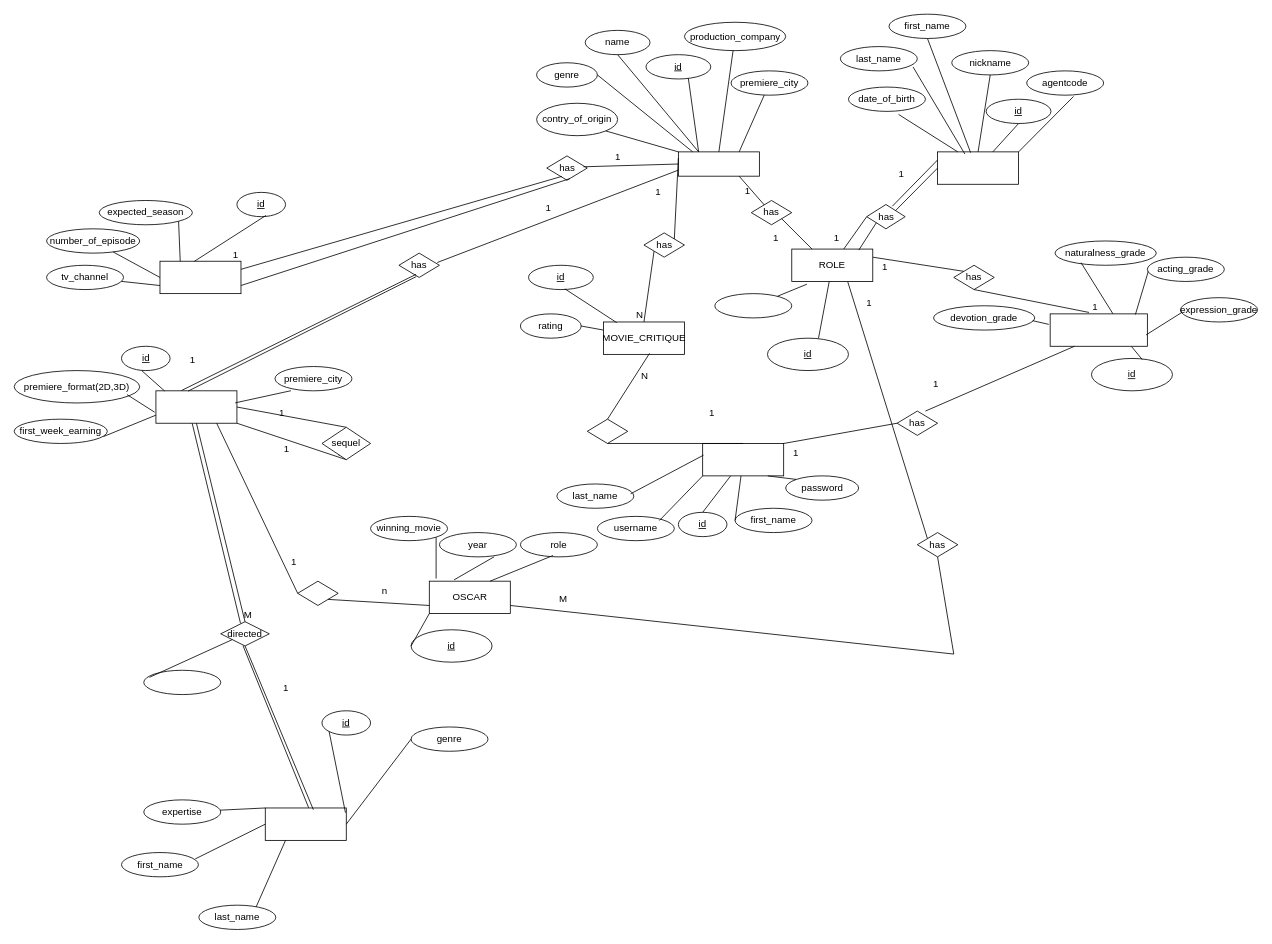
This 1272x944 diagram has some shape labels left out. The shapes that lost their labels are listed below. From the top down, each one's centre as x and y in pixels, then its label:
[718,163]: MOVIE
[978,167]: ACTOR
[200,277]: TW_SERIA
[753,305]: pay
[1098,329]: ROLE_CRITIC
[196,406]: FILM
[607,430]: leave
[743,459]: CRITIC
[317,592]: winner
[182,682]: salary
[305,823]: DIRECTOR
